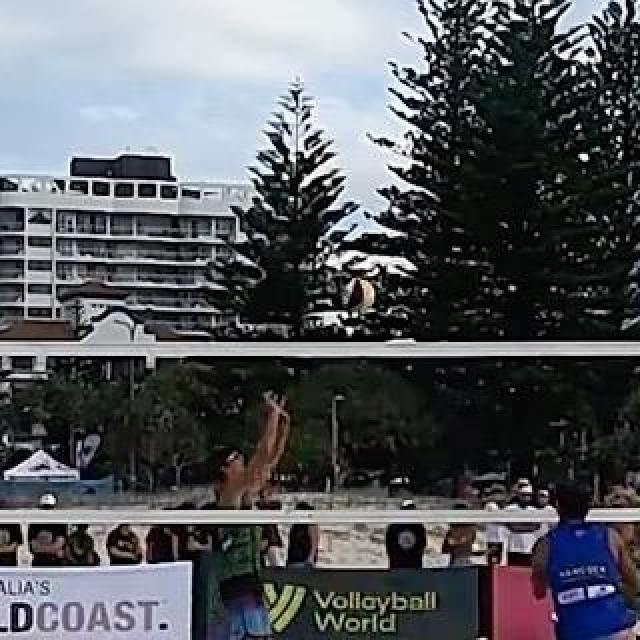volleyball: (346, 278, 374, 308)
